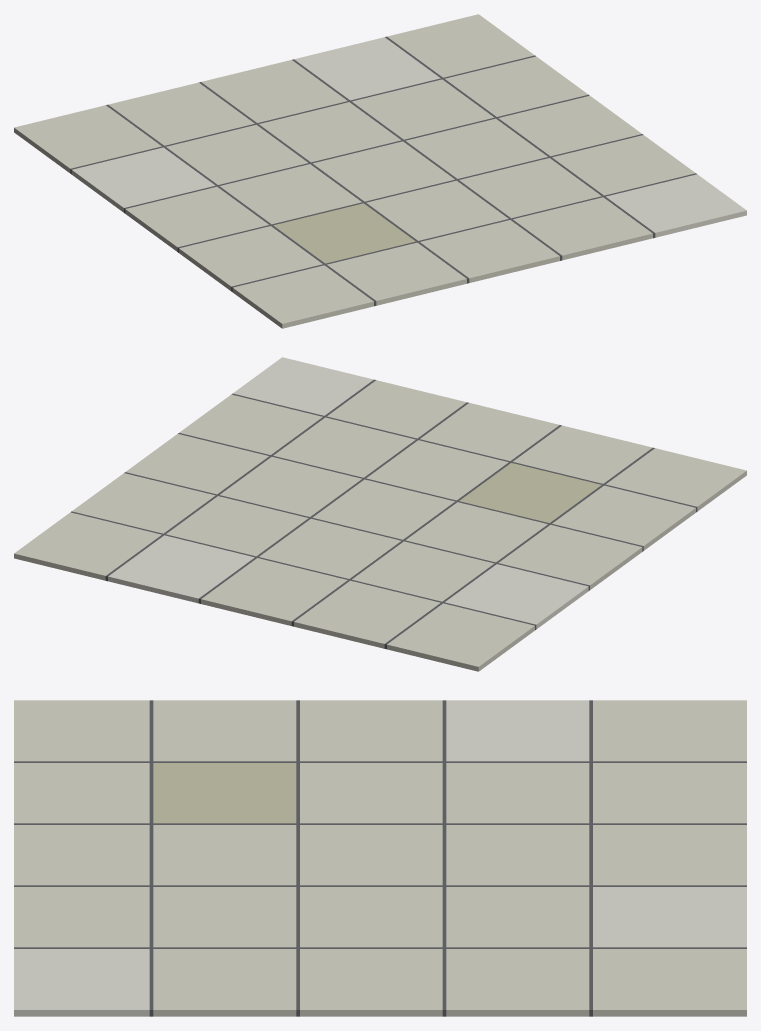
Rendered from Piso.glb.
3 renders of one model, top to bottom at view 1: azimuth 30°, elevation 25°; view 2: azimuth 150°, elevation 25°; view 3: azimuth 270°, elevation 25°, orthographic. The views are drawn at different scales.
Visible parts, largest first — view 1: Mesh_Mesh_head_geo.001_lambert2SG.001; view 2: Mesh_Mesh_head_geo.001_lambert2SG.001; view 3: Mesh_Mesh_head_geo.001_lambert2SG.001.
Boxes of the visible parts, left/top/right/bottom form: Mesh_Mesh_head_geo.001_lambert2SG.001: left=14, top=14, right=746, bottom=328; Mesh_Mesh_head_geo.001_lambert2SG.001: left=14, top=357, right=746, bottom=671; Mesh_Mesh_head_geo.001_lambert2SG.001: left=14, top=700, right=746, bottom=1016.
Size of the model in its own units: 200 by 2.01 by 200.
